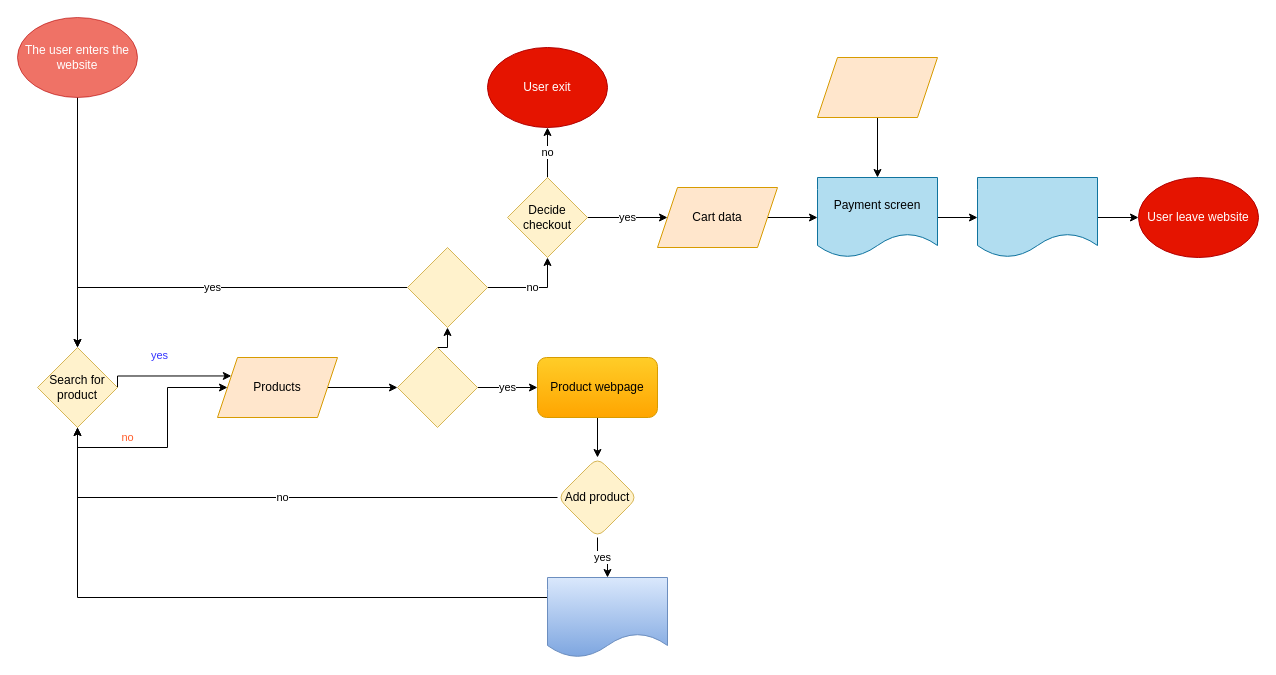
This 1276x675 diagram has some shape labels left out. The shapes that lost their labels are listed below. From the top down, each one's centre as x and y in pixels, then its label:
(x=877, y=87): Payment info
(x=1037, y=217): Order confirm email
(x=447, y=287): Continue shopping
(x=437, y=387): View product
(x=607, y=617): Add cart confirmation
